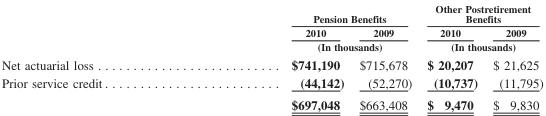table: (0, 0, 542, 113)
table column: (0, 0, 199, 113), (199, 0, 351, 113), (351, 0, 418, 113), (418, 0, 484, 113), (484, 0, 542, 113)
table column header: (0, 0, 542, 54)
table row: (0, 0, 542, 25), (0, 72, 542, 93), (0, 93, 542, 113), (0, 54, 542, 72), (0, 39, 542, 54), (0, 25, 542, 39)
table spanning cell: (199, 0, 418, 25), (199, 39, 418, 54), (418, 0, 542, 25), (418, 39, 542, 54)
